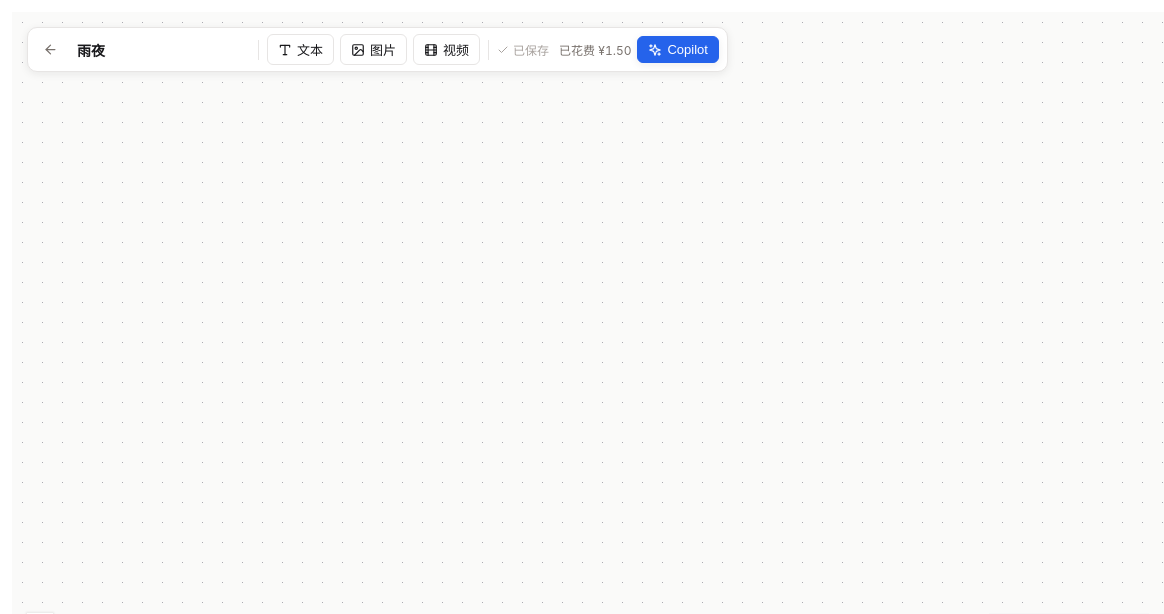
Test case: NodeCanvasPage › places a Copilot split on the canvas
Step 1. Click the button "Copilot" → [678, 50], box [638,36,719,63]
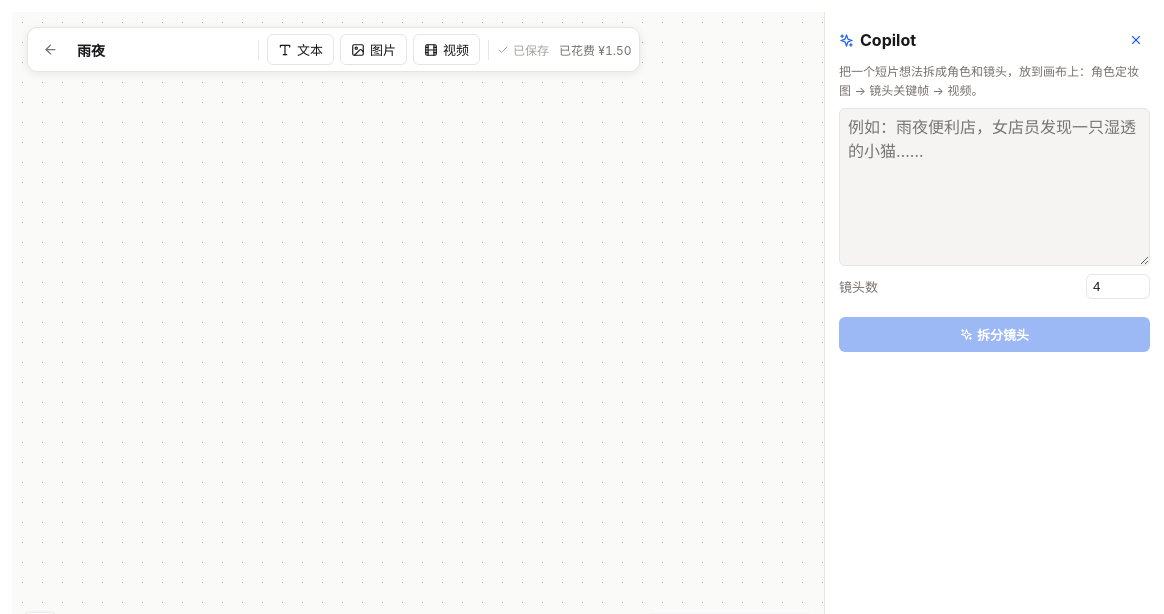
Step 2. Type "雨夜便利店" into the text box named "想法" → [994, 187], box [839,108,1150,266]
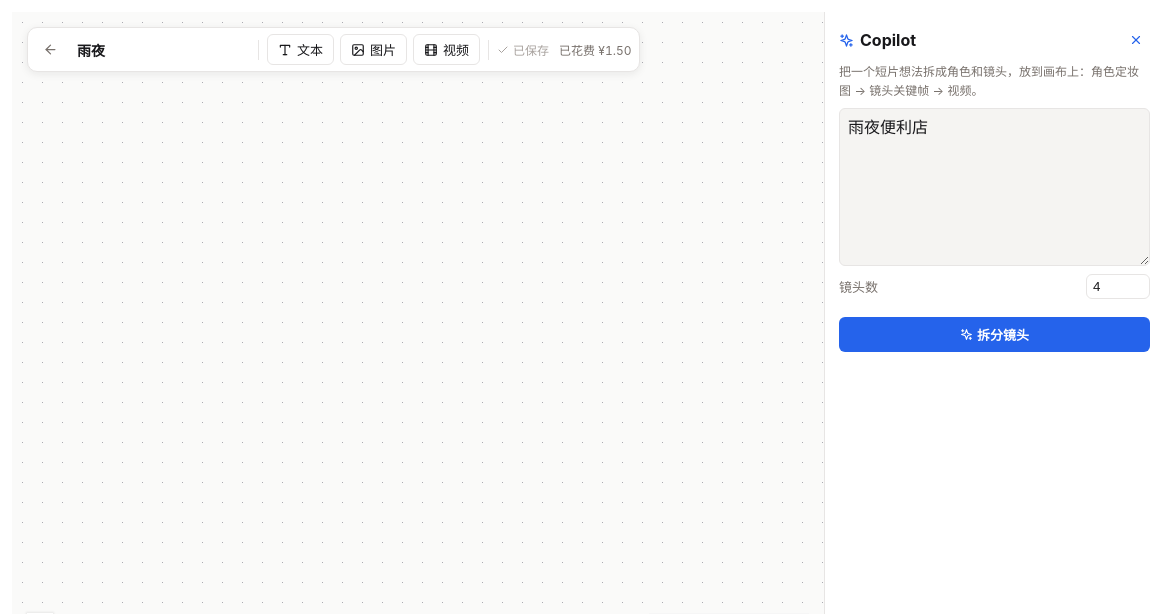
Step 3. Click the button "拆分镜头" → [994, 335], box [839,317,1150,352]
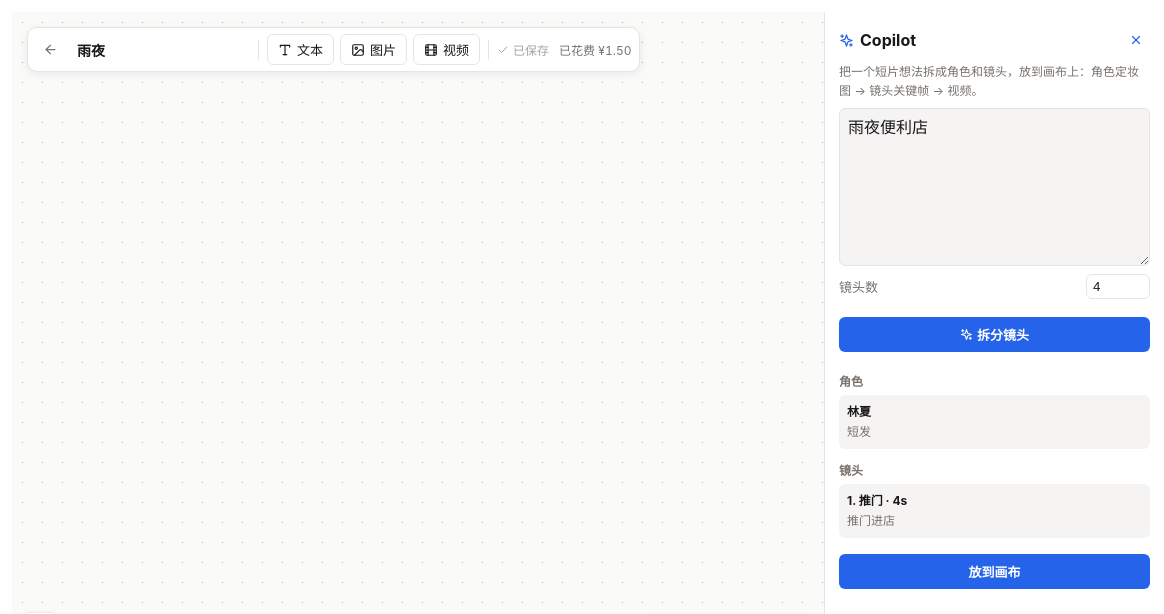
Step 4. Click the button "放到画布" → [994, 572], box [839,554,1150,589]
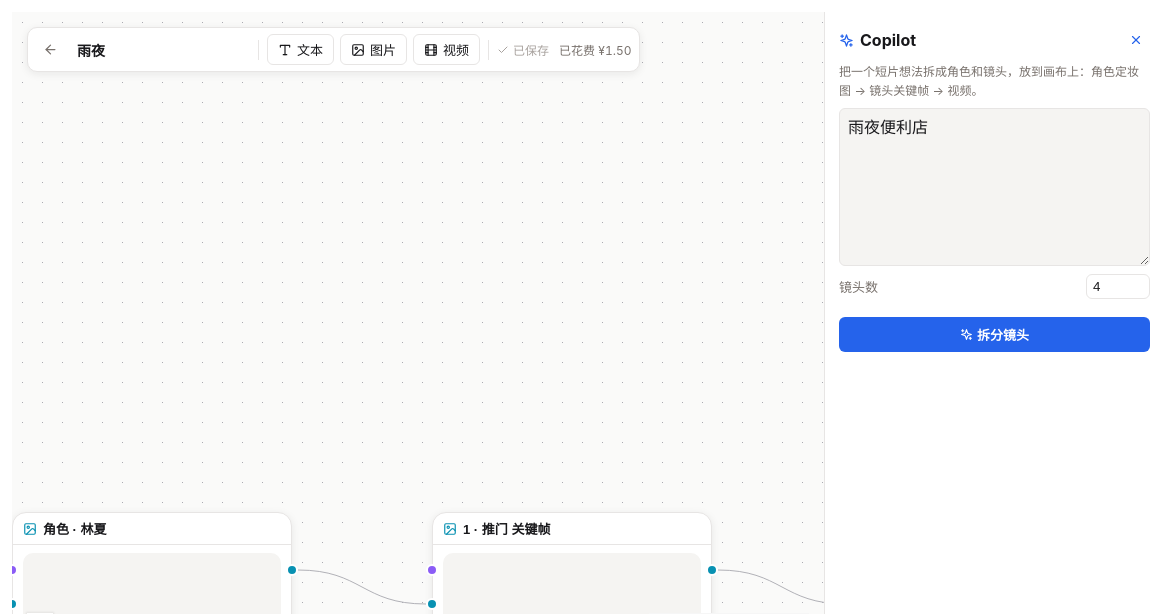
expect the 1st field showing "角色 · 林夏" is shown: met, box [43,521,281,536]
